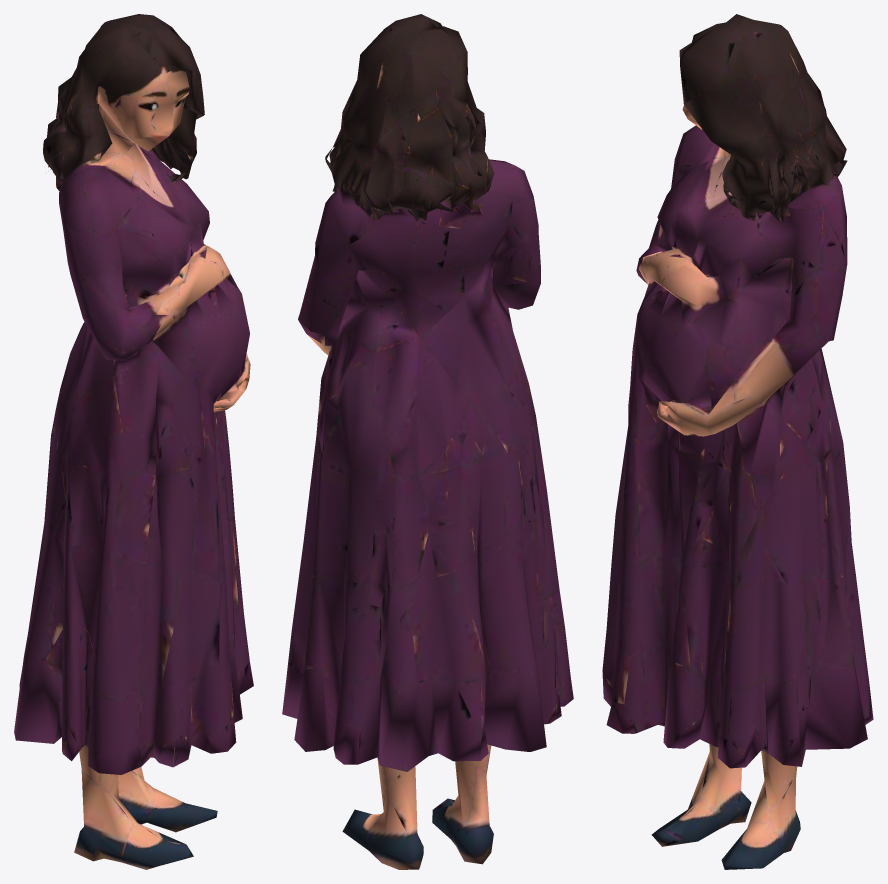
The model's file is gestante_ra.glb.
3 renders of one model, left to right at view 1: azimuth 30°, elevation 25°; view 2: azimuth 150°, elevation 25°; view 3: azimuth 270°, elevation 25°, orthographic.
Visible parts, largest first — view 1: geometry_0; view 2: geometry_0; view 3: geometry_0.
Part boxes in pixels (x1,y1,x2,y2): geometry_0: (14,14,253,869); geometry_0: (282,14,573,869); geometry_0: (602,14,873,869).
Size of the model in its own units: 0.5684 by 1.9 by 0.564.
1 material, 1 textured.
